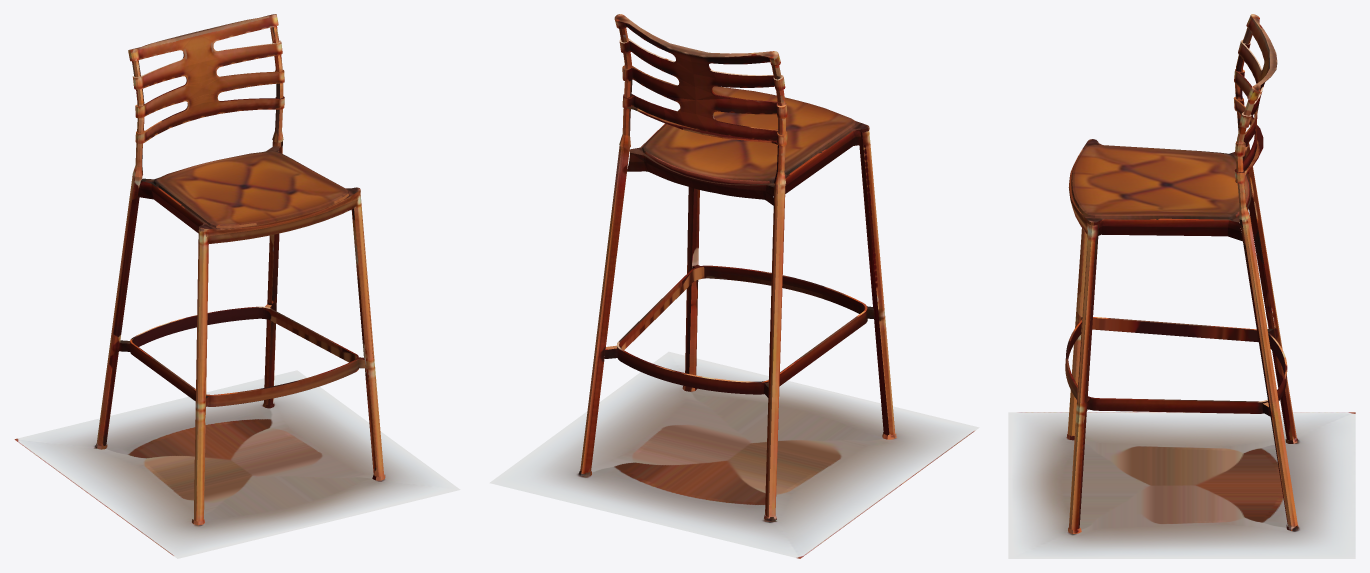
The model's file is edited_mesh.glb.
3 views of the same model, side by side, from view 1: azimuth 30°, elevation 25°; view 2: azimuth 150°, elevation 25°; view 3: azimuth 270°, elevation 25° (orthographic). The views are drawn at different scales.
Visible parts, largest first — view 1: normalized_model.obj; view 2: normalized_model.obj; view 3: normalized_model.obj.
Part boxes in pixels (left/top/right/bottom): normalized_model.obj: left=14, top=14, right=460, bottom=558; normalized_model.obj: left=489, top=14, right=979, bottom=558; normalized_model.obj: left=1008, top=14, right=1355, bottom=558.
Size of the model in its own units: 1.45 by 2 by 1.45.
Materials: 1 (1 with a texture image).
